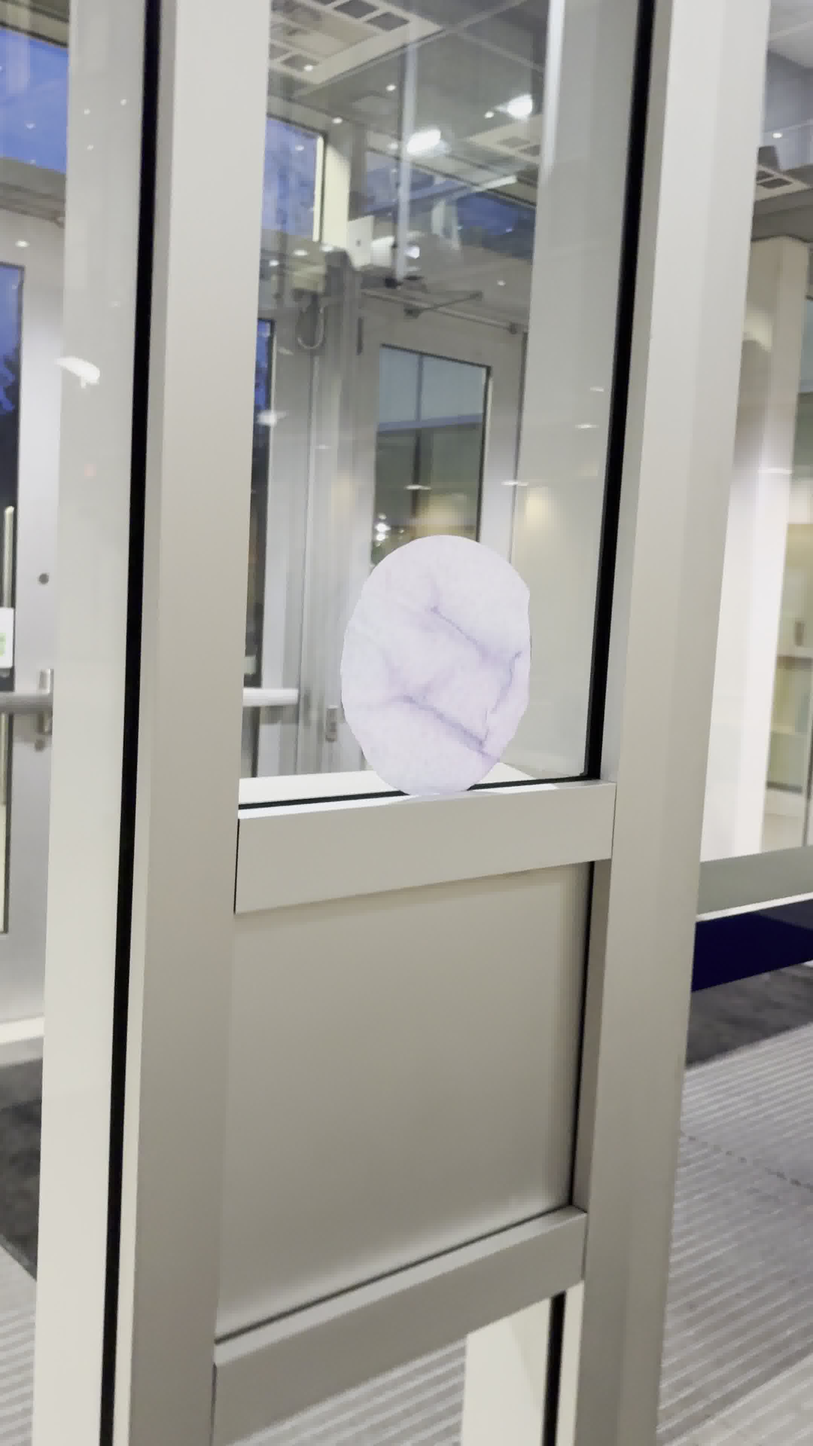Target: (339, 534, 532, 796)
